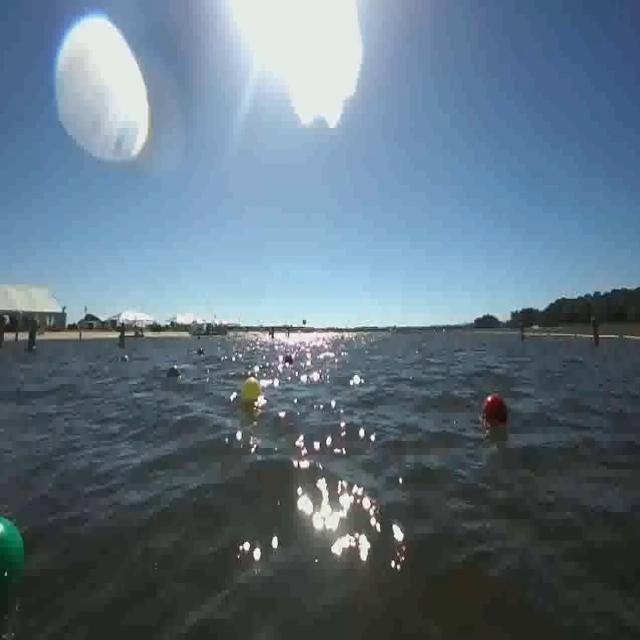green-buoy: (0, 514, 26, 589)
red-buoy: (482, 394, 508, 430)
yellow-buoy: (240, 374, 259, 401)
